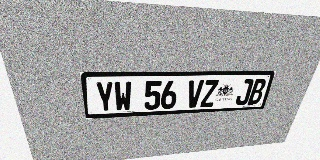5: (144, 81, 162, 110)
6: (160, 80, 178, 109)
B: (247, 79, 267, 105)
J: (234, 79, 254, 105)
V: (185, 80, 204, 108)
W: (114, 81, 132, 112)
Y: (94, 81, 114, 112)
Z: (200, 80, 219, 107)
